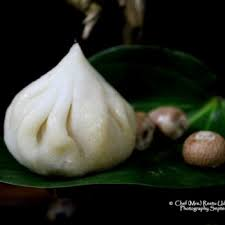modak: (1, 20, 151, 177)
